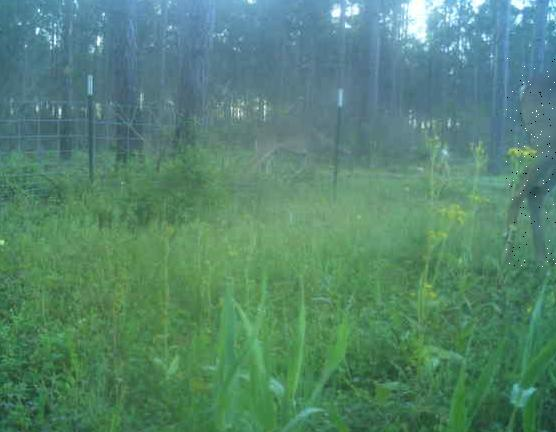Deer: (506, 57, 556, 267)
